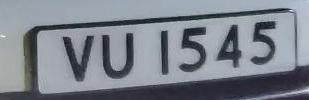1: (148, 21, 178, 82)
4: (212, 16, 249, 76)
5: (174, 19, 213, 79), (245, 15, 282, 70)
U: (98, 27, 140, 84)
V: (56, 31, 101, 86)
